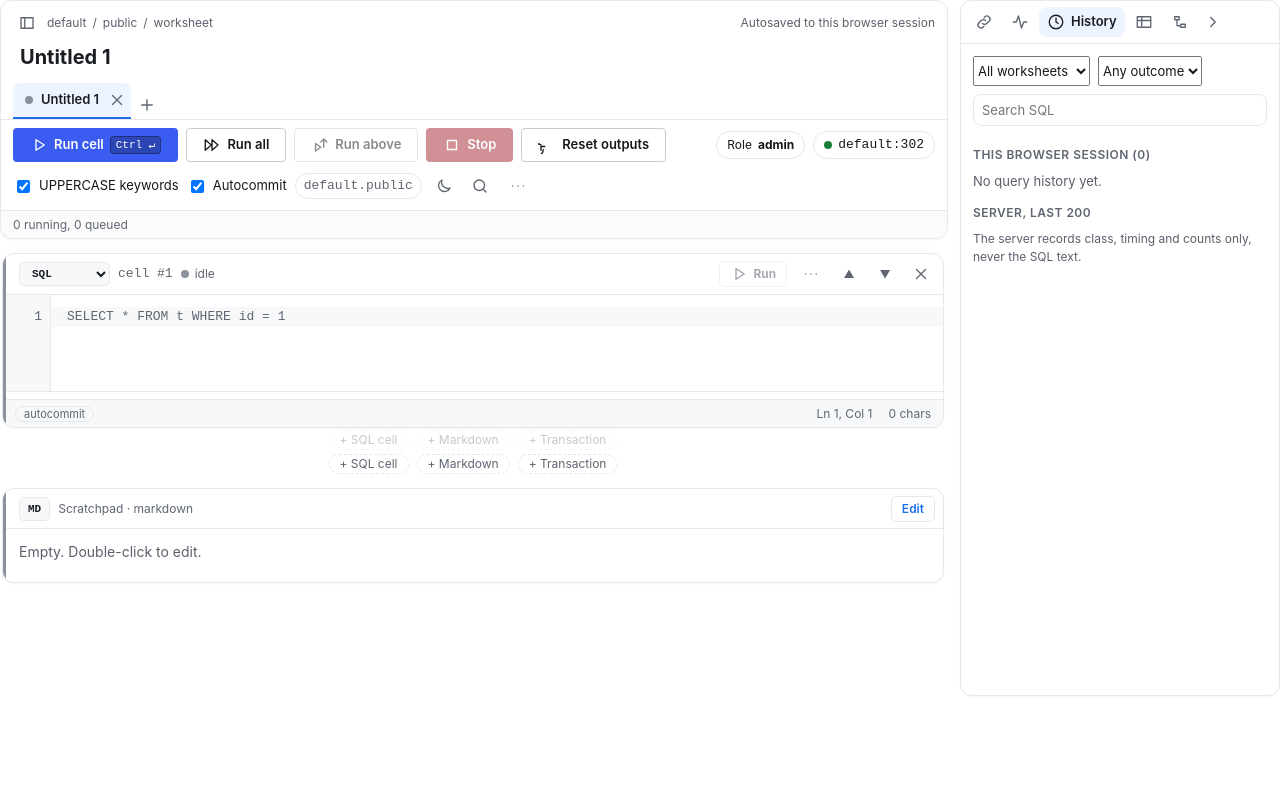
Test: guided results and errors › says what completed instead of a bare OK
The width and height of the screenshot is (1280, 800).
Step 1. Type "CREATE SCHEMA analytics" into the text box named "Cell 1 SQL" → (497, 343), box [51,295,943,391]
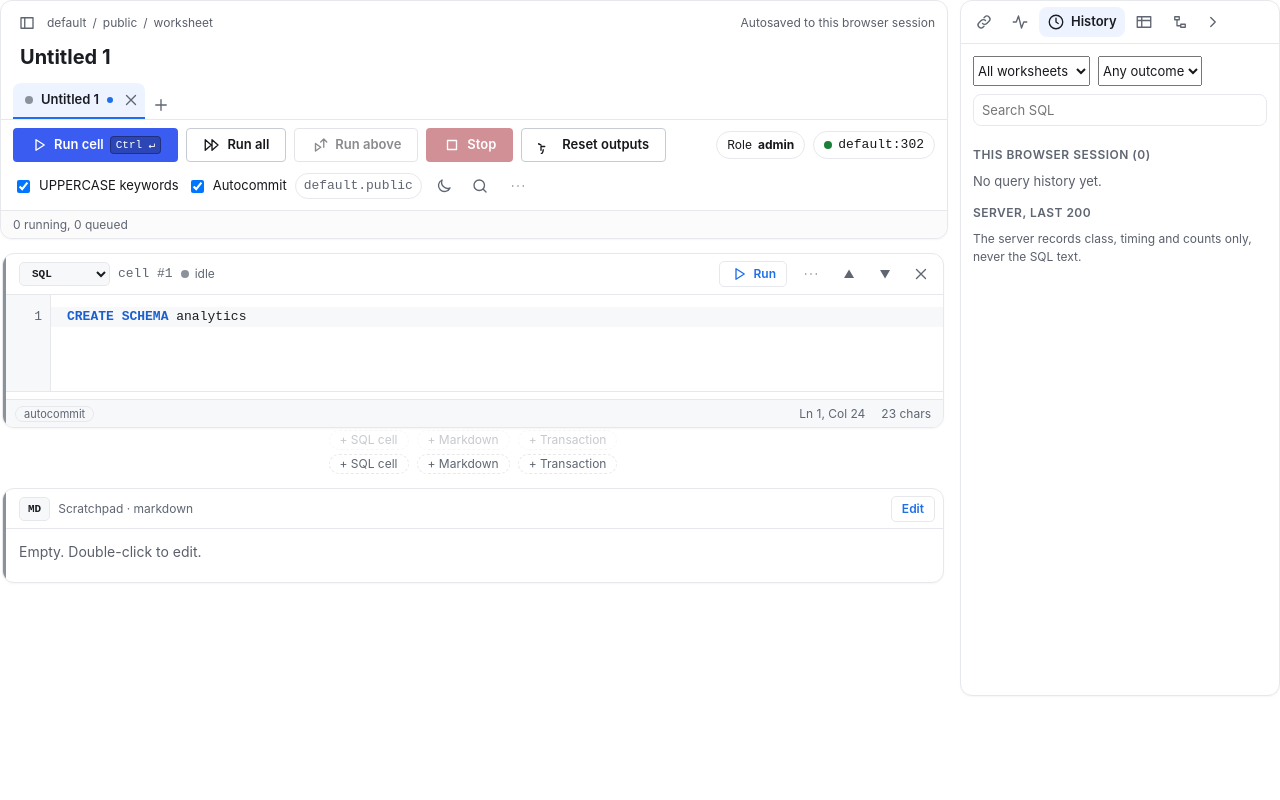
Step 2. Click the button with aria-label "Run cell 1" → (753, 274), box [720,261,787,287]
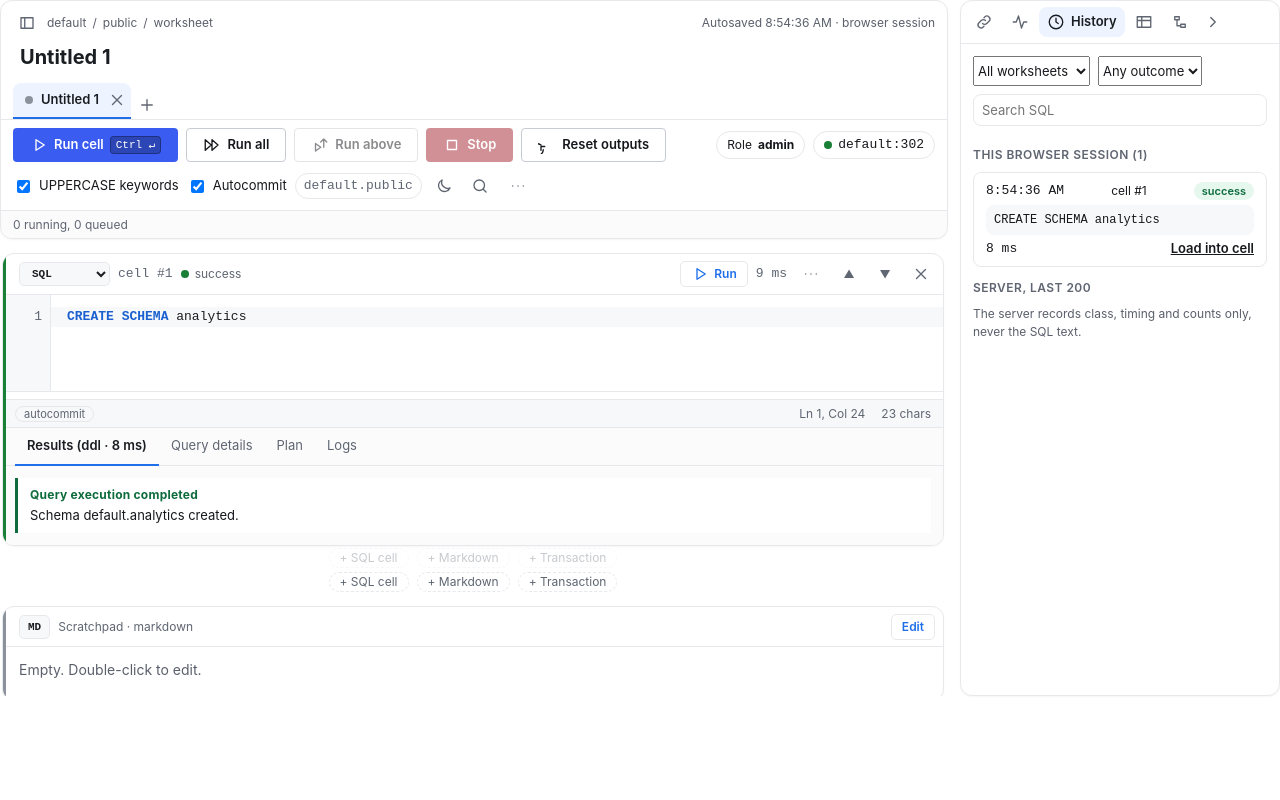
Expected: the text "Query execution completed" is shown, [30,486,198,502]
Expected: the text "Schema default.analytics created." is shown, [30,506,239,522]
